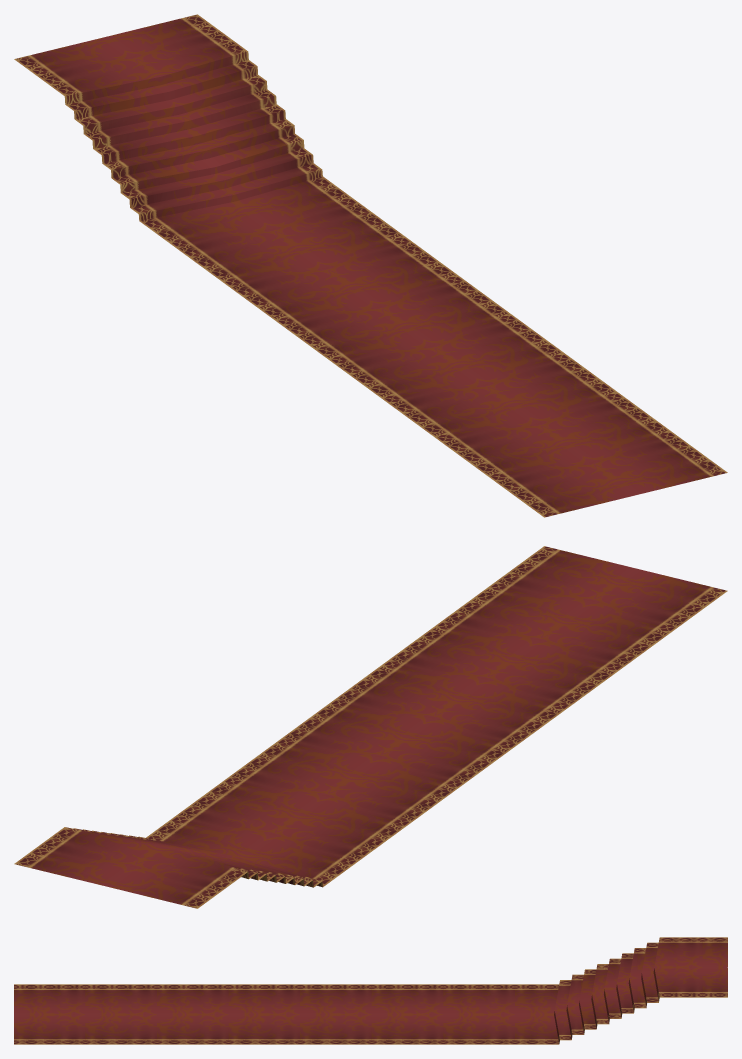
The model's file is WC_ditan01.FBX.
The picture shows the model from 3 angles, top to bottom: view 1: azimuth 30°, elevation 25°; view 2: azimuth 150°, elevation 25°; view 3: azimuth 270°, elevation 25°; orthographic projection. The views are drawn at different scales.
Visible parts, largest first — view 1: WC_ditan01_001; view 2: WC_ditan01_001; view 3: WC_ditan01_001.
Part boxes in pixels (left/top/right/bottom): WC_ditan01_001: left=14, top=14, right=727, bottom=517; WC_ditan01_001: left=14, top=546, right=727, bottom=908; WC_ditan01_001: left=14, top=937, right=727, bottom=1044.
Size of the model in its own units: 923 by 337 by 4619.
